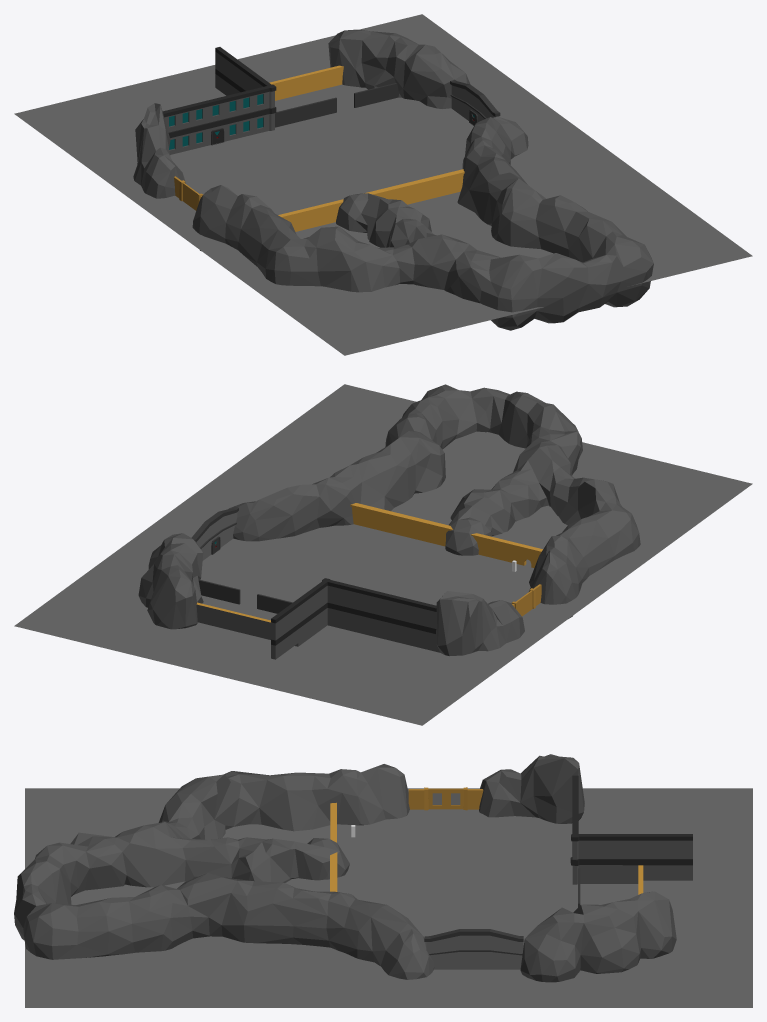
Rendered from level_1.fbx.
3 renders of one model, top to bottom at view 1: azimuth 30°, elevation 25°; view 2: azimuth 150°, elevation 25°; view 3: azimuth 270°, elevation 25°, orthographic. The views are drawn at different scales.
Parts seen in each view (by area): view 1: Grounhd, mountin, wall.004, wall.007, wall.003, wall.005, wall.006; view 2: Grounhd, mountin, wall.004, wall.007, wall.003, wall.006; view 3: Grounhd, mountin, wall.004, wall.003, wall.007.
Part boxes in pixels (bbox=[...]): Grounhd: bbox=[14, 14, 752, 355]; mountin: bbox=[133, 29, 653, 330]; wall.004: bbox=[162, 47, 343, 154]; wall.007: bbox=[174, 169, 464, 231]; wall.003: bbox=[450, 80, 500, 121]; wall.005: bbox=[275, 97, 336, 127]; wall.006: bbox=[354, 83, 399, 107]; Grounhd: bbox=[14, 384, 752, 725]; mountin: bbox=[138, 384, 640, 656]; wall.004: bbox=[196, 578, 440, 659]; wall.007: bbox=[350, 503, 542, 610]; wall.003: bbox=[191, 506, 238, 560]; wall.006: bbox=[198, 579, 240, 604]; Grounhd: bbox=[25, 788, 752, 1007]; mountin: bbox=[14, 754, 676, 982]; wall.004: bbox=[570, 775, 692, 894]; wall.003: bbox=[424, 929, 523, 969]; wall.007: bbox=[330, 787, 483, 891].
Size of the model in its own units: 8269 by 1739 by 11769.
1 material, 1 textured.
